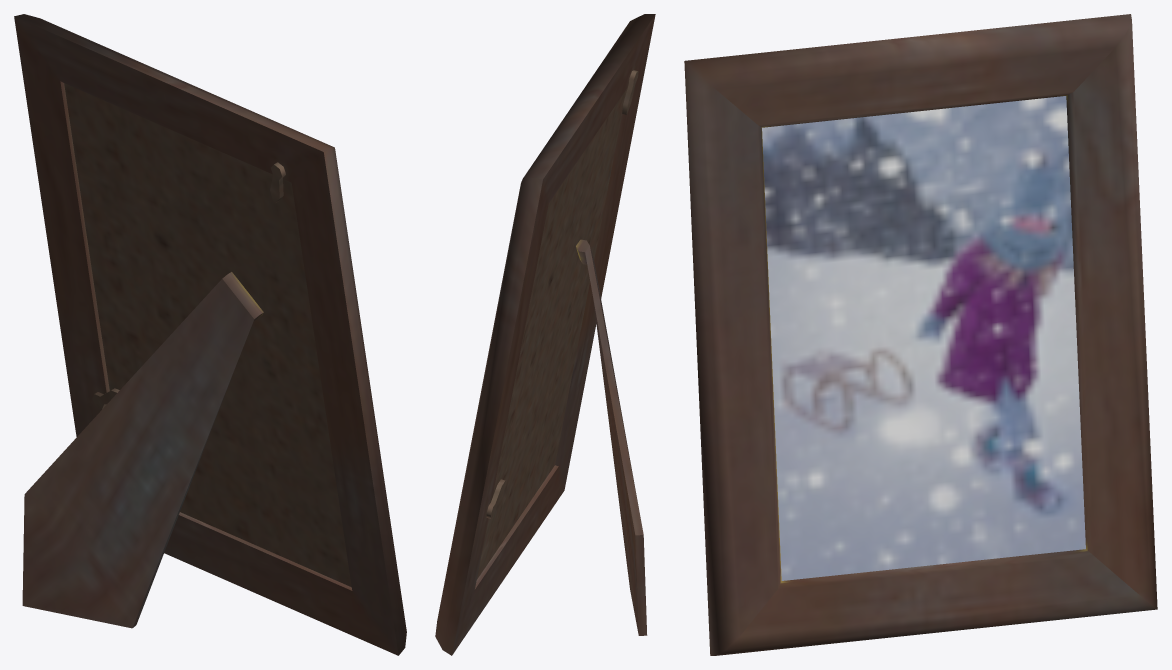
File: cadrephoto3mini.gltf
3 views of the same model, side by side, from view 1: azimuth 30°, elevation 25°; view 2: azimuth 150°, elevation 25°; view 3: azimuth 270°, elevation 25° (orthographic). The views are drawn at different scales.
Visible parts, largest first — view 1: PhotoFrame_10x15_12; view 2: PhotoFrame_10x15_12; view 3: PhotoFrame_10x15_12.
Part boxes in pixels (box(x1,y1,x2,y2)): PhotoFrame_10x15_12: box(14, 14, 406, 655); PhotoFrame_10x15_12: box(435, 14, 655, 655); PhotoFrame_10x15_12: box(684, 14, 1157, 655).
Size of the model in its own units: 0.0948 by 0.1939 by 0.1509.
1 material, 1 textured.
